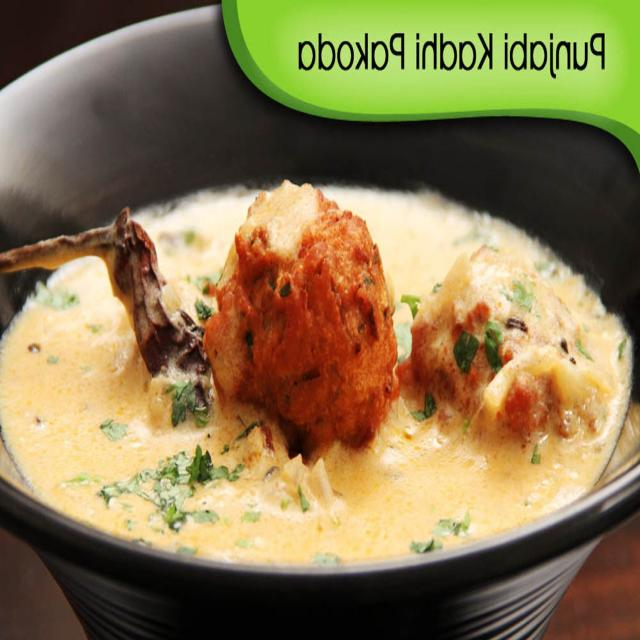Kadhi Pakora: (0, 181, 633, 566)
